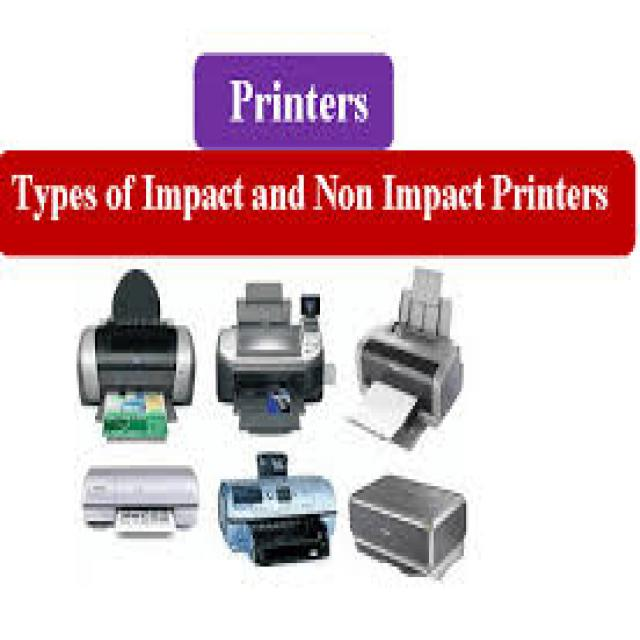printer: (336, 260, 483, 461), (197, 265, 343, 441), (75, 258, 209, 442), (214, 432, 337, 613), (340, 447, 481, 590), (66, 444, 207, 558)
